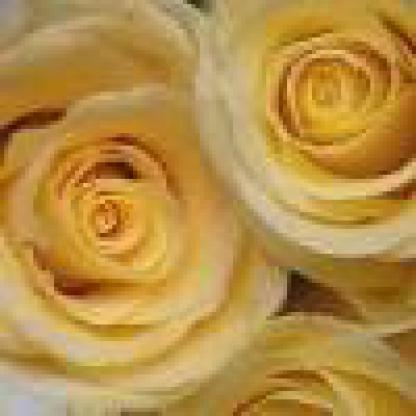Rose-Mawar: (1, 1, 413, 413)
